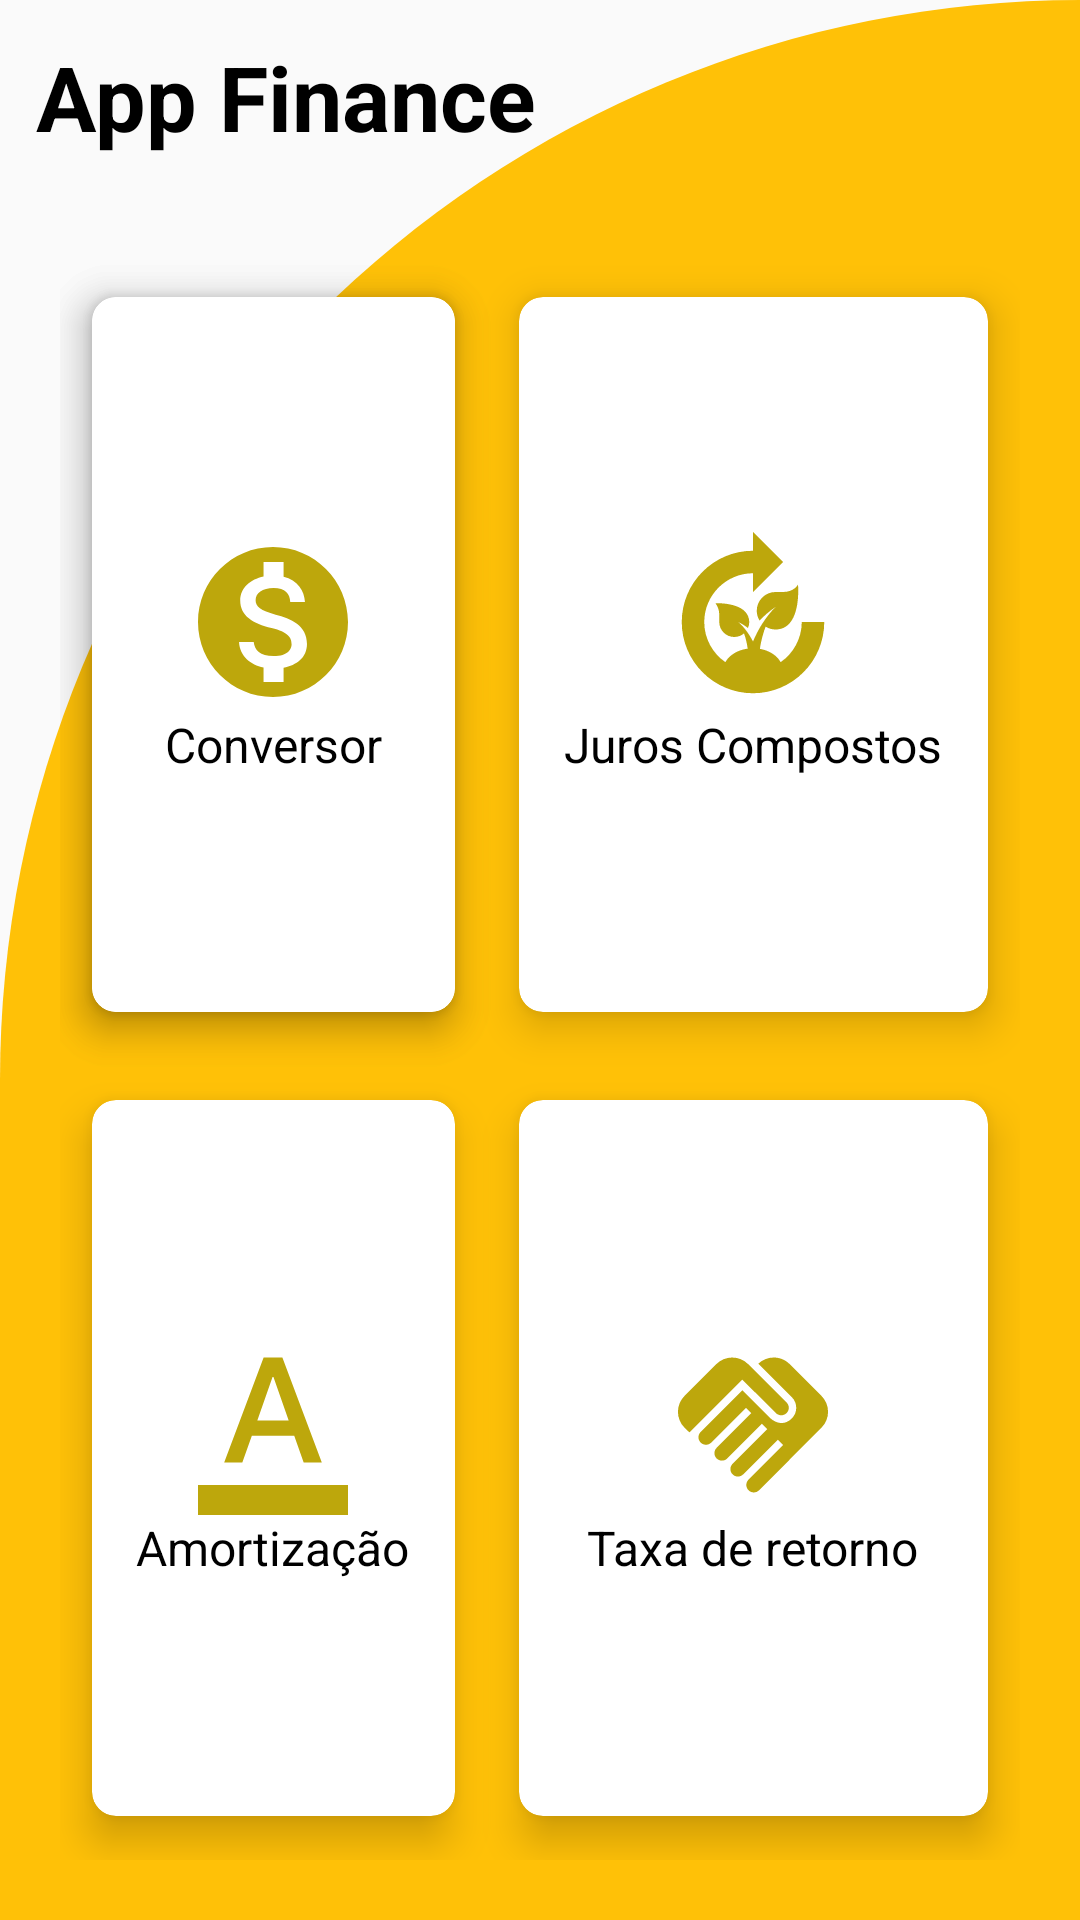

Named icons in this screenshot (1080px×1920px) and their bounding boxes, (x1, y1, x2, y2):
handshake: (678, 1357, 828, 1493)
